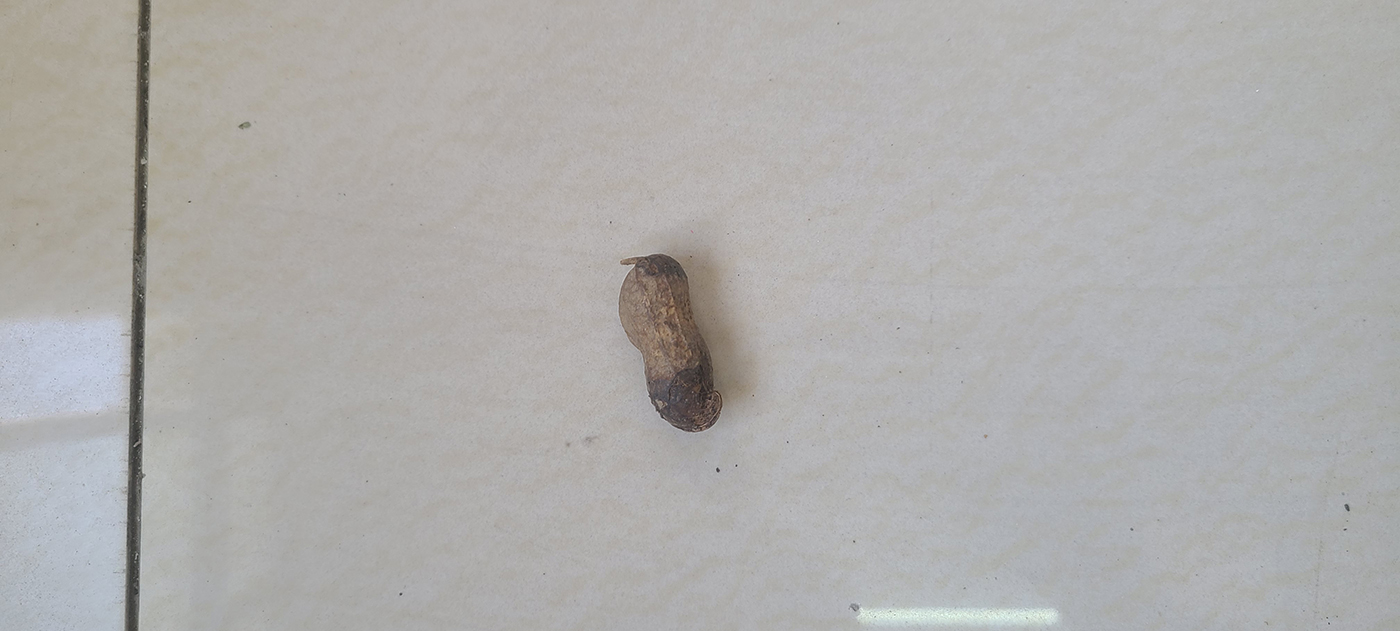l: (616, 253, 723, 433)
